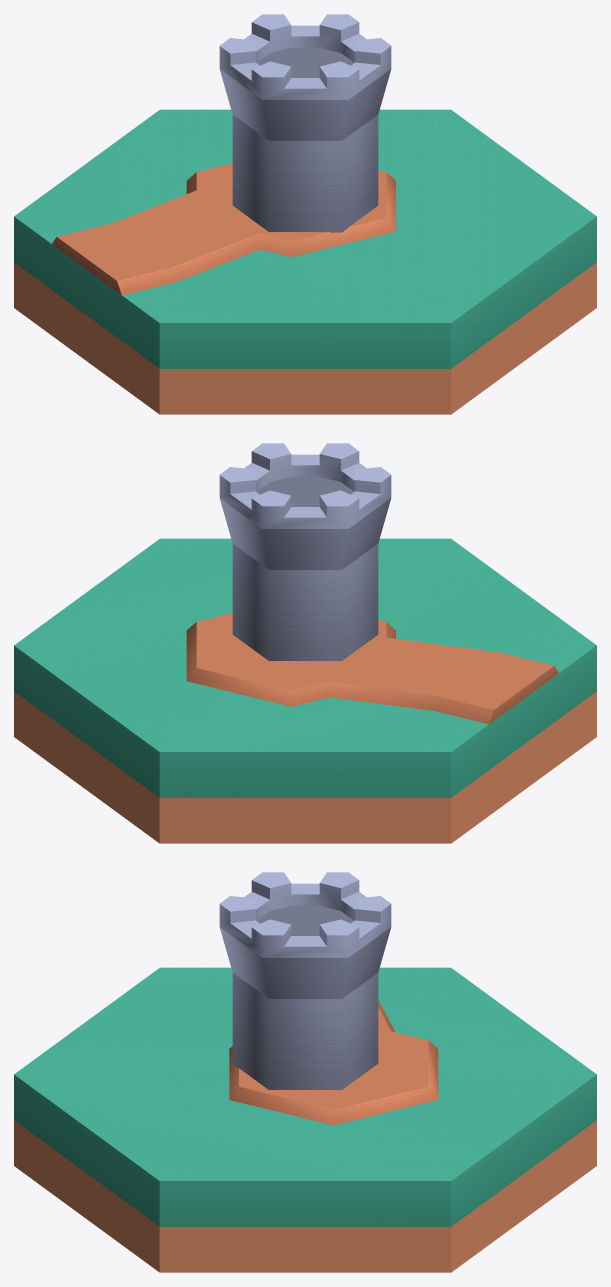
The model's file is grass-path-wall-tower start.glb.
3 renders of one model, top to bottom at view 1: azimuth 30°, elevation 25°; view 2: azimuth 150°, elevation 25°; view 3: azimuth 270°, elevation 25°, orthographic.
Parts seen in each view (by area): view 1: grass, unit-wall-tower, path-start; view 2: grass, unit-wall-tower, path-start; view 3: grass, unit-wall-tower, path-start.
Part boxes in pixels (x1,y1,x2,y2): grass: [14, 109, 596, 414]; unit-wall-tower: [219, 14, 391, 232]; path-start: [52, 163, 395, 295]; grass: [14, 538, 596, 843]; unit-wall-tower: [219, 443, 391, 660]; path-start: [186, 613, 558, 724]; grass: [14, 967, 596, 1272]; unit-wall-tower: [219, 872, 391, 1089]; path-start: [229, 1000, 438, 1125].
Bounding box in the file's own units: 1 × 0.573 × 1.15.
Materials: 1 (1 with a texture image).
